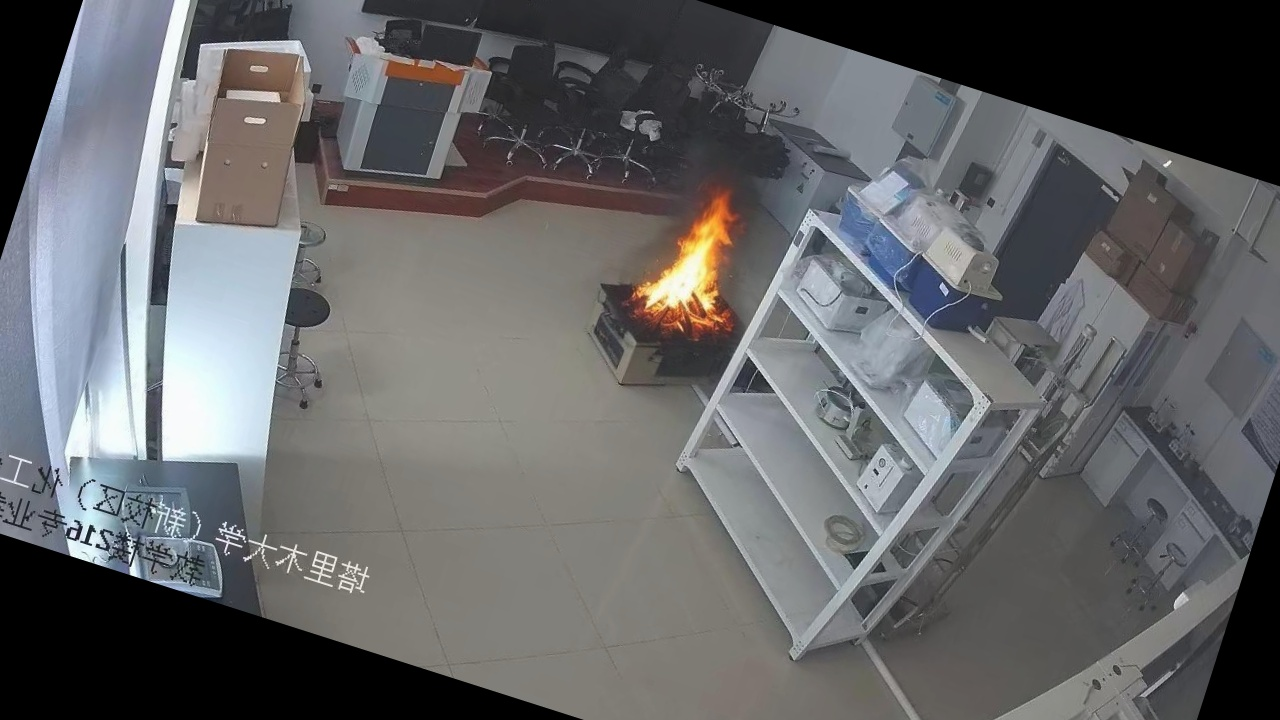fire: (561, 147, 788, 404)
